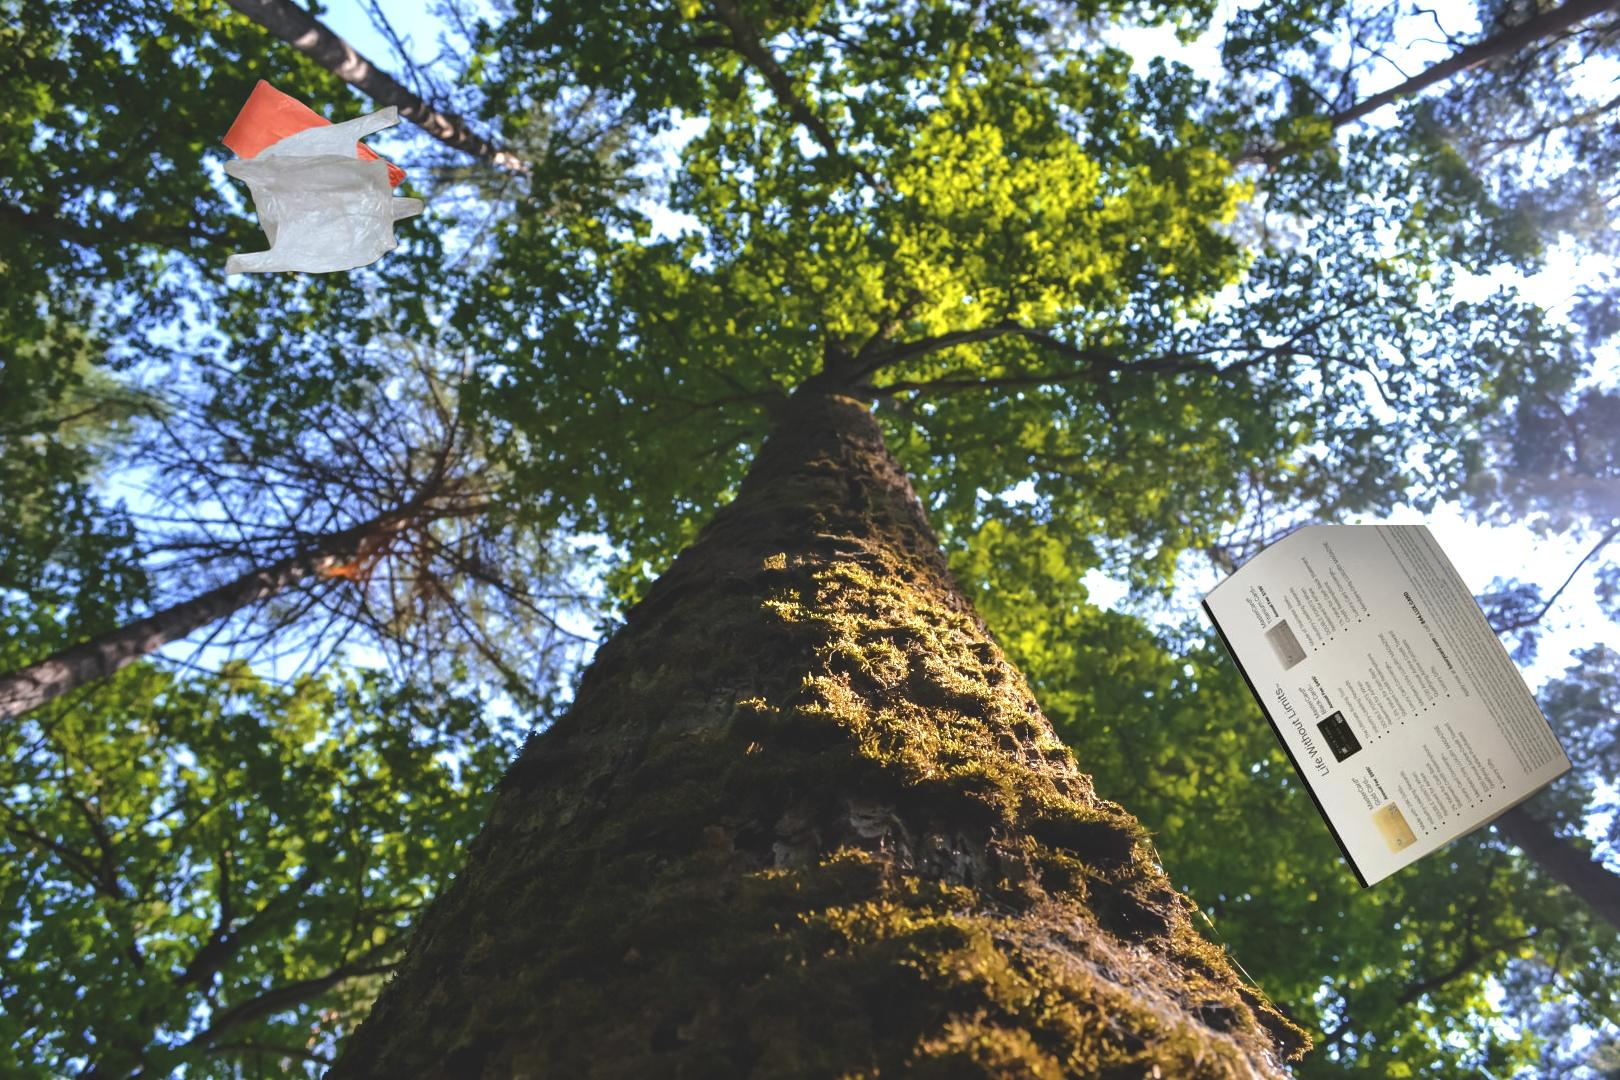paper: (1196, 526, 1577, 891)
plastic-bag: (221, 76, 428, 278)
